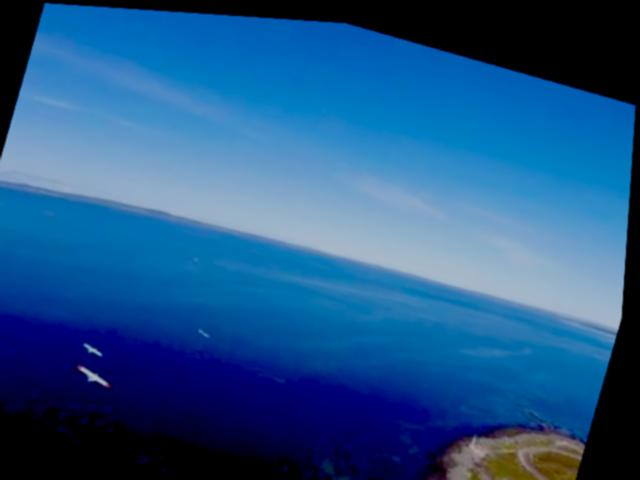uav: (76, 363, 119, 387), (84, 337, 112, 360)
